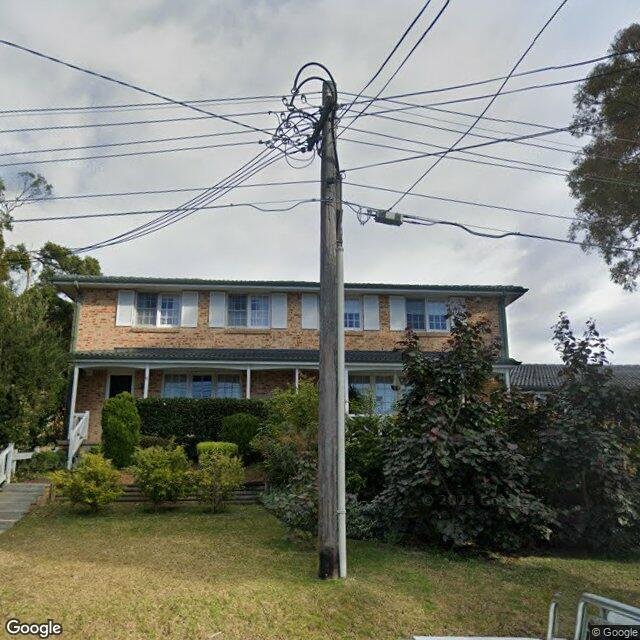crossarm: (306, 99, 336, 152)
timber-pole: (318, 80, 346, 580)
